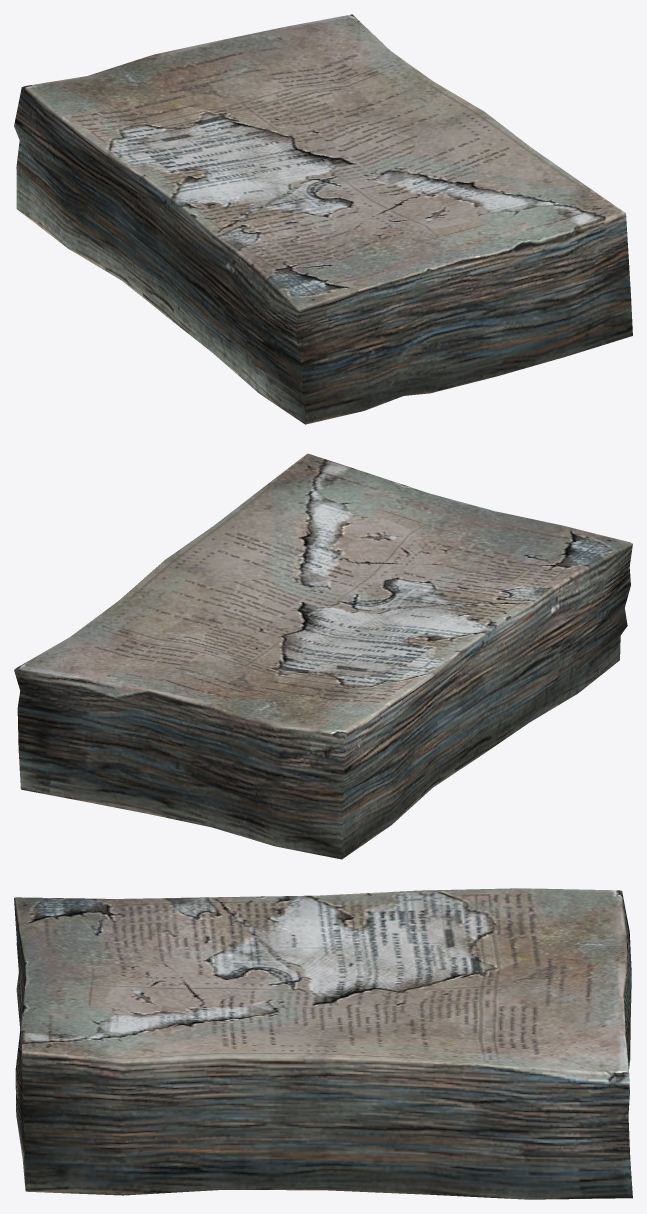
The model's file is paper04.FBX.
The picture shows the model from 3 angles, top to bottom: view 1: azimuth 30°, elevation 25°; view 2: azimuth 150°, elevation 25°; view 3: azimuth 270°, elevation 25°; orthographic projection. The views are drawn at different scales.
Parts seen in each view (by area): view 1: SM_Paper04; view 2: SM_Paper04; view 3: SM_Paper04.
Part boxes in pixels (x1=…): SM_Paper04: x1=14, y1=14, x2=632, y2=424; SM_Paper04: x1=14, y1=453, x2=632, y2=859; SM_Paper04: x1=14, y1=888, x2=632, y2=1199.
Size of the model in its own units: 21.6 by 9.13 by 31.55.
Materials: 1 (1 with a texture image).
